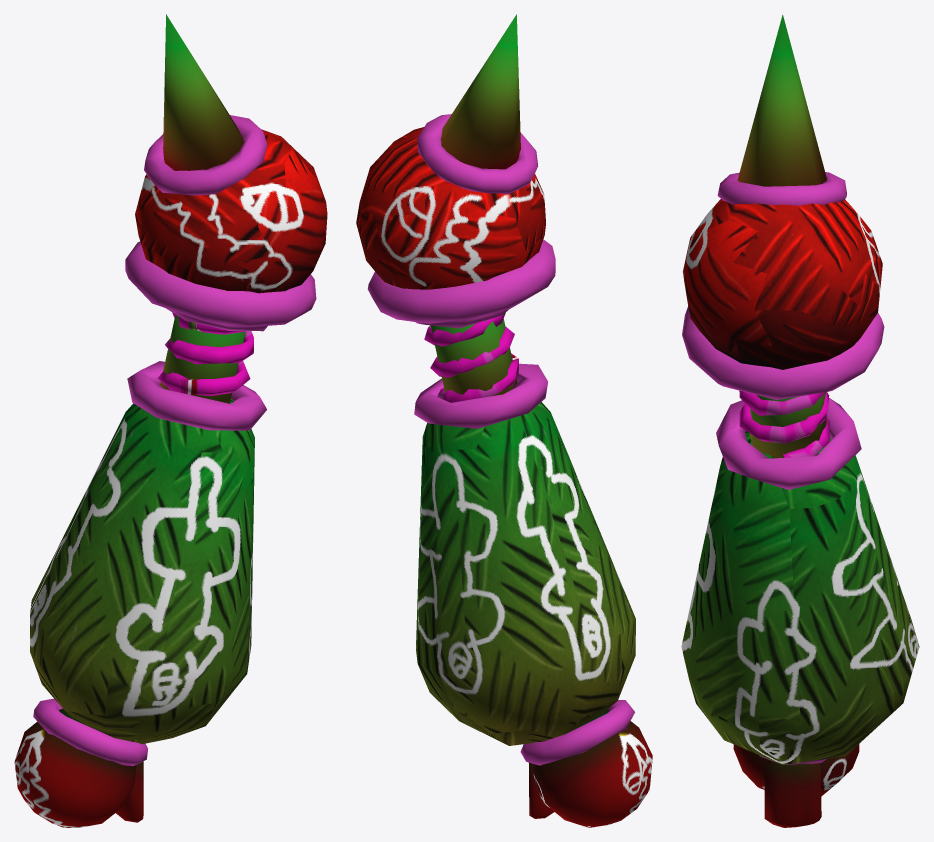
The model's file is spring.obj.
3 renders of one model, left to right at view 1: azimuth 30°, elevation 25°; view 2: azimuth 150°, elevation 25°; view 3: azimuth 270°, elevation 25°, orthographic. The views are drawn at different scales.
Visible parts, largest first — view 1: Spiral.002_Spiral.004; view 2: Spiral.002_Spiral.004; view 3: Spiral.002_Spiral.004.
Boxes of the visible parts, x1=… form: Spiral.002_Spiral.004: x1=14, y1=14, x2=327, y2=827; Spiral.002_Spiral.004: x1=356, y1=14, x2=652, y2=827; Spiral.002_Spiral.004: x1=681, y1=14, x2=919, y2=827.
Bounding box in the file's own units: 1.25 × 3.35 × 0.8696.
